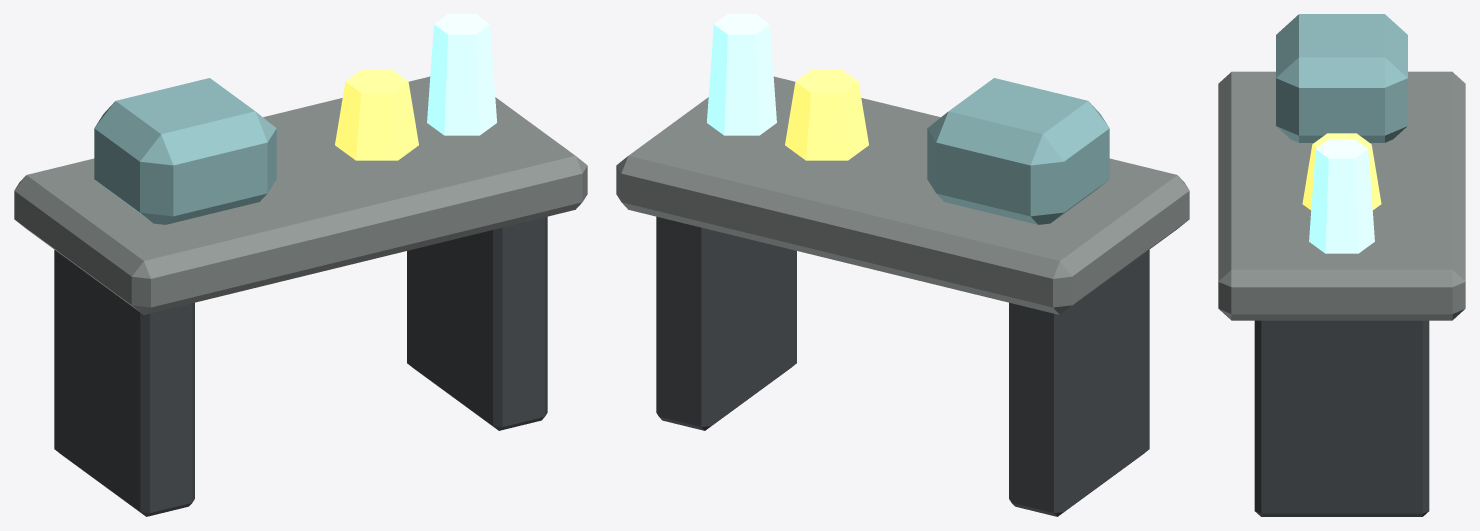
File: PROP_Maze_Shop.fbx
The picture shows the model from 3 angles, left to right: view 1: azimuth 30°, elevation 25°; view 2: azimuth 150°, elevation 25°; view 3: azimuth 270°, elevation 25°; orthographic projection. The views are drawn at different scales.
Visible parts, largest first — view 1: PROP_Maze_Shop; view 2: PROP_Maze_Shop; view 3: PROP_Maze_Shop.
Part boxes in pixels (x1,y1,x2,y2): PROP_Maze_Shop: [14, 14, 587, 516]; PROP_Maze_Shop: [616, 14, 1189, 516]; PROP_Maze_Shop: [1218, 14, 1465, 516].
Size of the model in its own units: 150 by 117 by 75.
